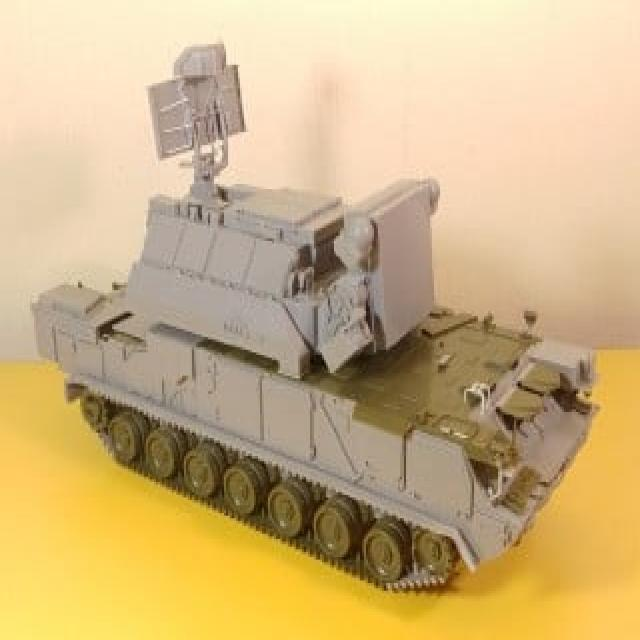MIL_EW_RDR: (58, 72, 584, 592)
